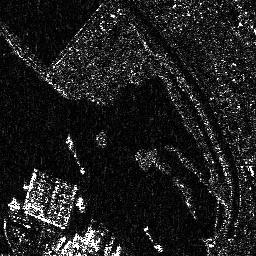ship: (65, 132, 86, 176), (143, 224, 165, 254)
